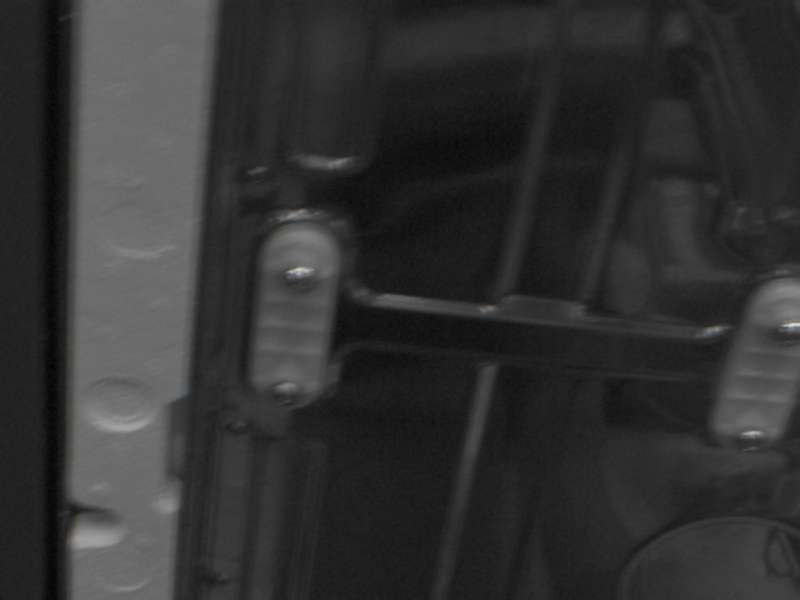screw: (282, 265, 319, 292), (270, 381, 303, 407), (735, 429, 769, 452), (772, 320, 800, 344)
